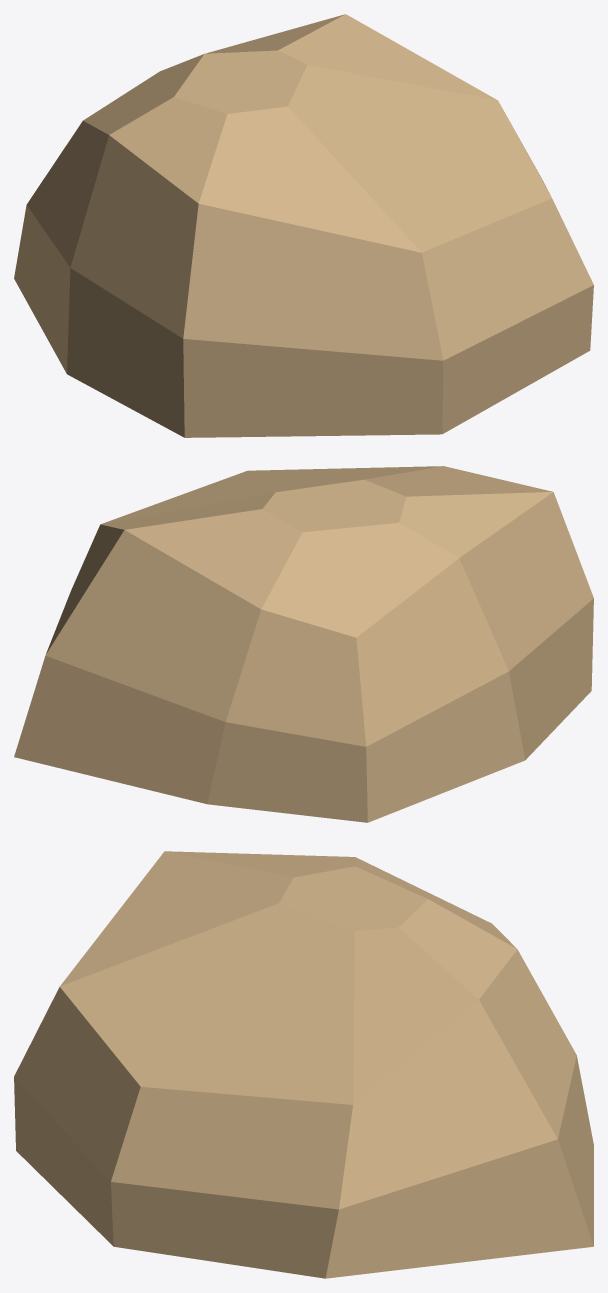
File: SandRock2.fbx
3 views of the same model, one above another, from view 1: azimuth 30°, elevation 25°; view 2: azimuth 150°, elevation 25°; view 3: azimuth 270°, elevation 25° (orthographic). The views are drawn at different scales.
Visible parts, largest first — view 1: SandRock2; view 2: SandRock2; view 3: SandRock2.
Part boxes in pixels (bbox=[...]): SandRock2: bbox=[14, 14, 593, 437]; SandRock2: bbox=[14, 466, 593, 822]; SandRock2: bbox=[14, 851, 593, 1278].
Bounding box in the file's own units: 139 × 65.22 × 145.
